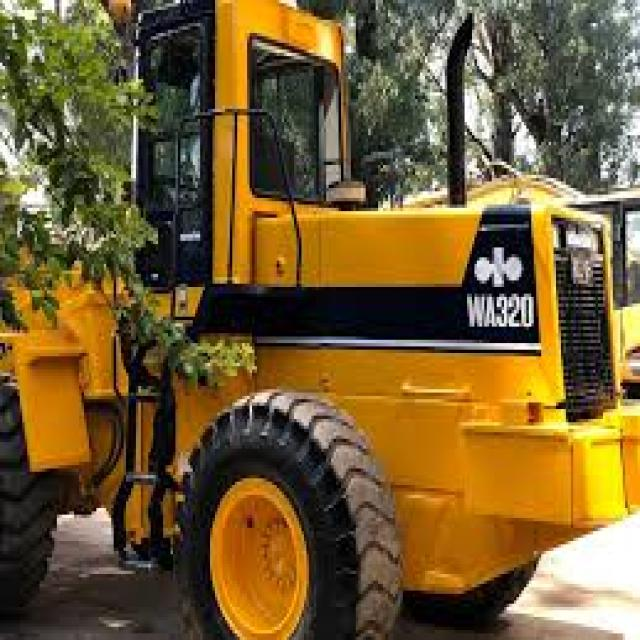buldozerpayloadergrader: (4, 7, 640, 640)
